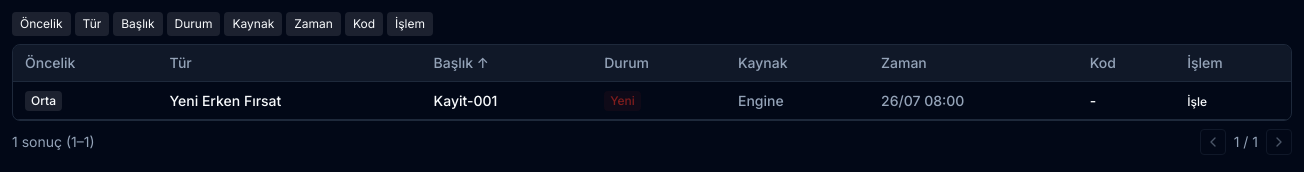
it: AlertsList › toggle column visibility
Click the button "Kaynak" at (253, 24), box [224,12,282,36]
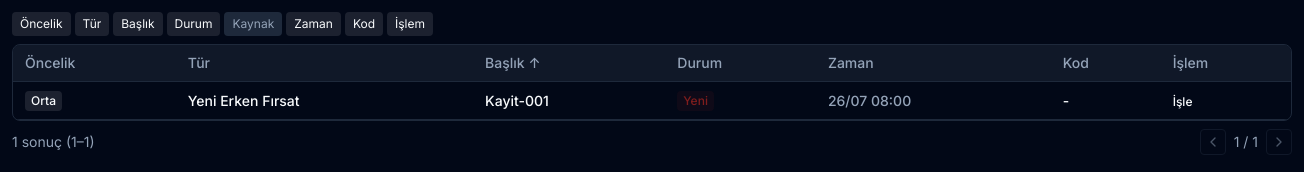
Expected: the text "Engine" is gone
Click the button "Kaynak" at (253, 24), box [224,12,282,36]
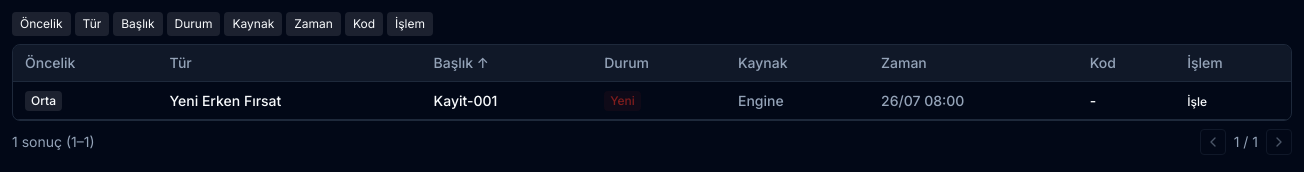
Expected: the text "Engine" is shown, [726,82,869,120]
